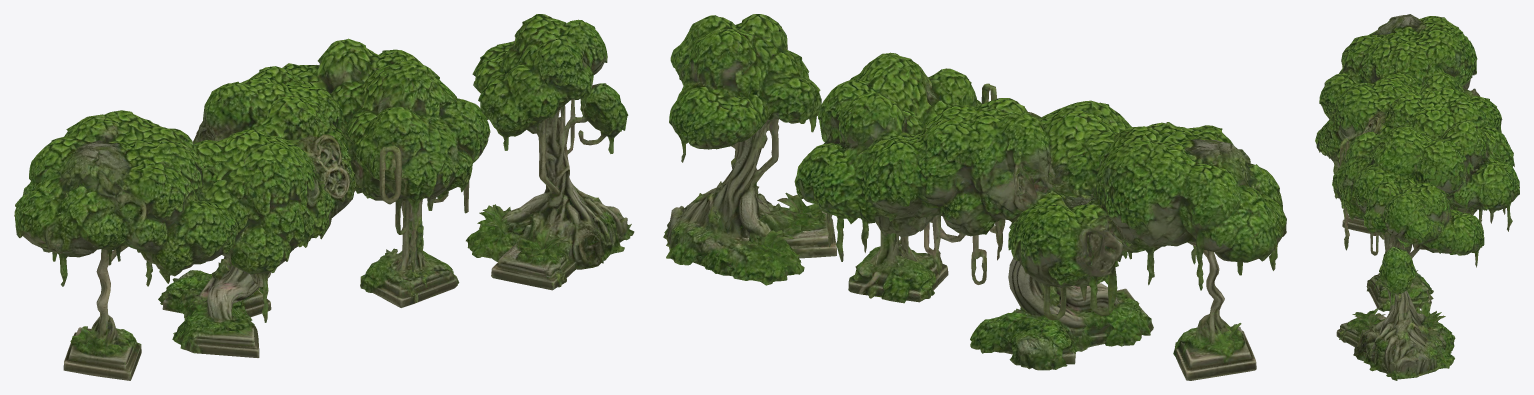
File: clockwork-grove.glb
3 views of the same model, side by side, from view 1: azimuth 30°, elevation 25°; view 2: azimuth 150°, elevation 25°; view 3: azimuth 270°, elevation 25° (orthographic). The views are drawn at different scales.
Visible parts, largest first — view 1: Mesh1.0; view 2: Mesh1.0; view 3: Mesh1.0.
Boxes of the visible parts, x1=… form: Mesh1.0: x1=14, y1=14, x2=634, y2=380; Mesh1.0: x1=663, y1=14, x2=1286, y2=380; Mesh1.0: x1=1315, y1=14, x2=1519, y2=380.
Size of the model in its own units: 1.89 by 0.6641 by 0.7241.
1 material, 1 textured.
